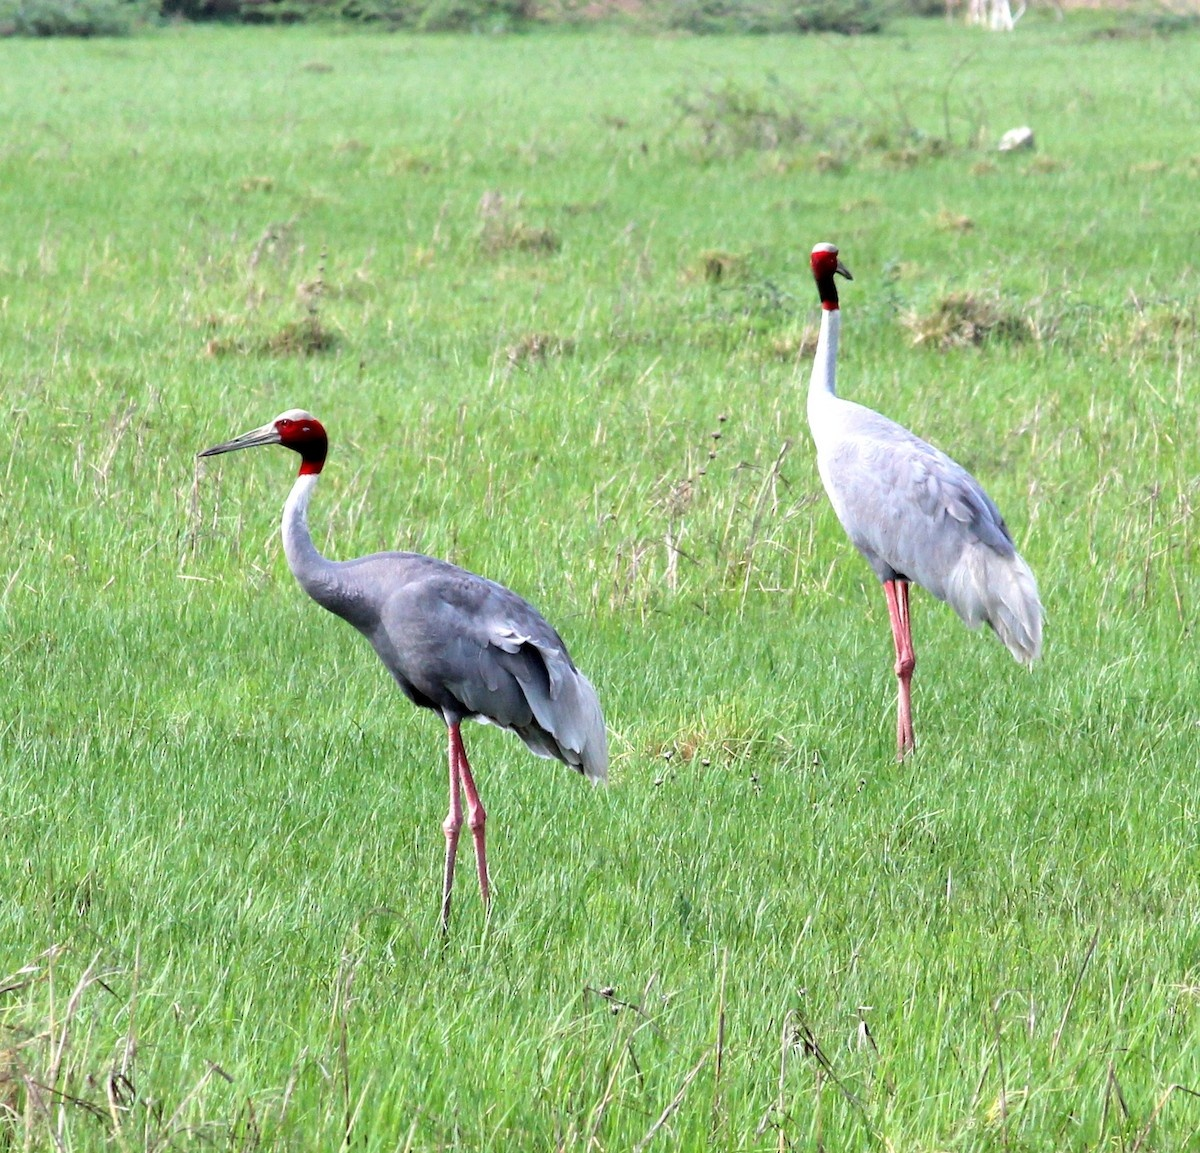crane: (195, 381, 621, 923), (757, 222, 1090, 782)
